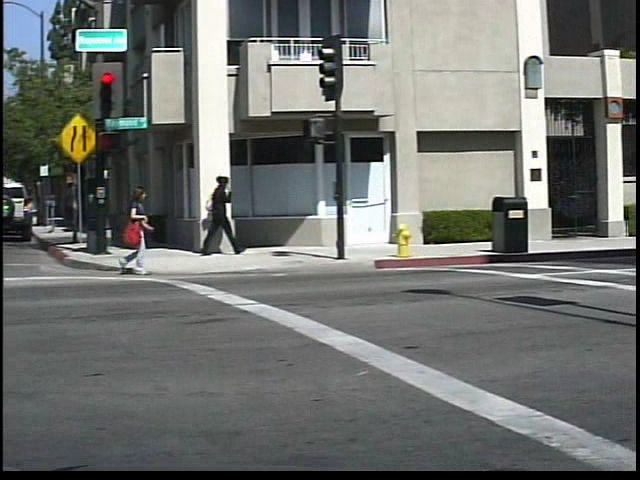person: (117, 181, 168, 275), (203, 169, 248, 257)
